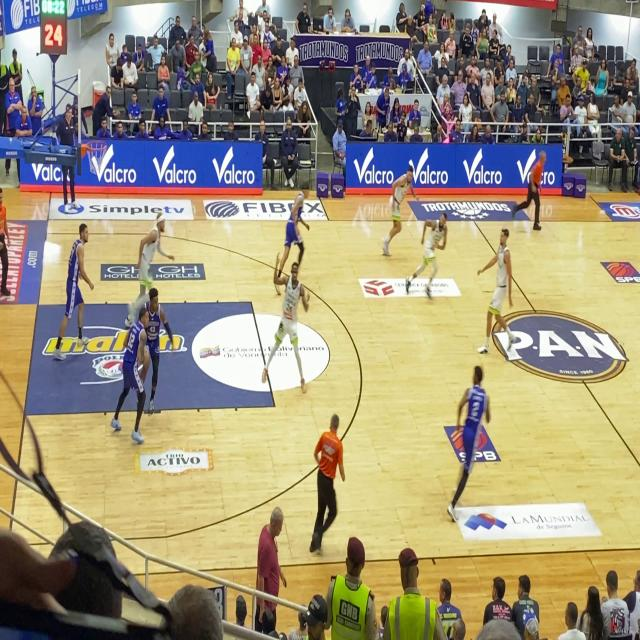referee: (304, 394, 351, 563), (516, 146, 551, 247)
team1: (266, 257, 313, 401), (370, 150, 420, 276), (479, 222, 518, 378), (415, 200, 452, 322), (134, 206, 175, 295)
team2: (443, 357, 502, 529), (102, 287, 156, 453), (54, 212, 96, 367), (273, 175, 316, 272)
ubasket: (87, 135, 108, 179)
